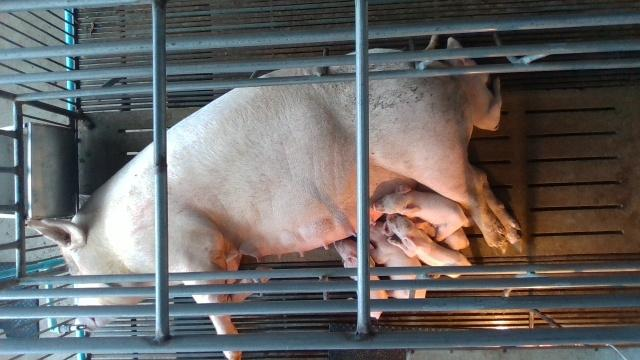piglet: (385, 214, 472, 278), (373, 186, 468, 243), (446, 37, 502, 131), (370, 222, 427, 298), (335, 240, 388, 319)
sow-sleep-lactate: (26, 48, 522, 360)
